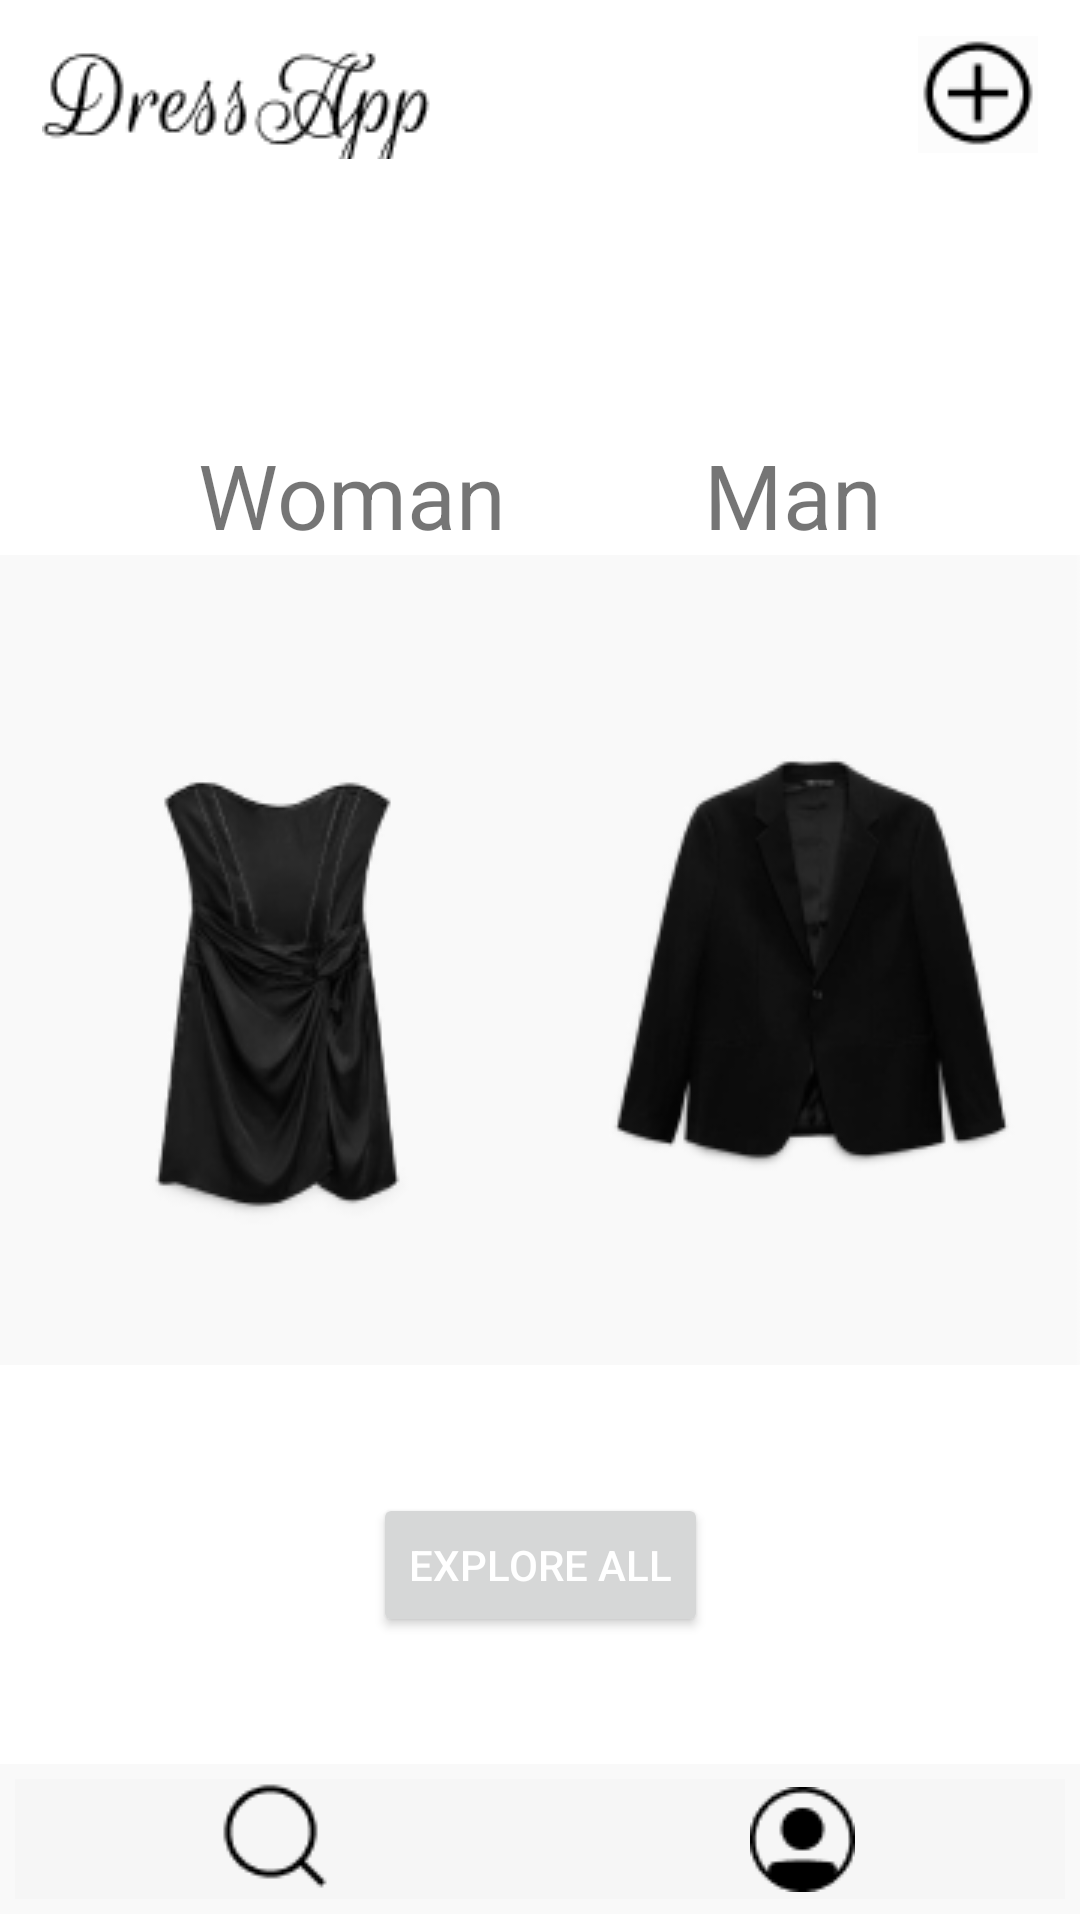

Screen size 1080 × 1920. Icon name, then its center in pixels as (x,y):
add product: (978,93)
profile: (802,1839)
search: (275,1836)
